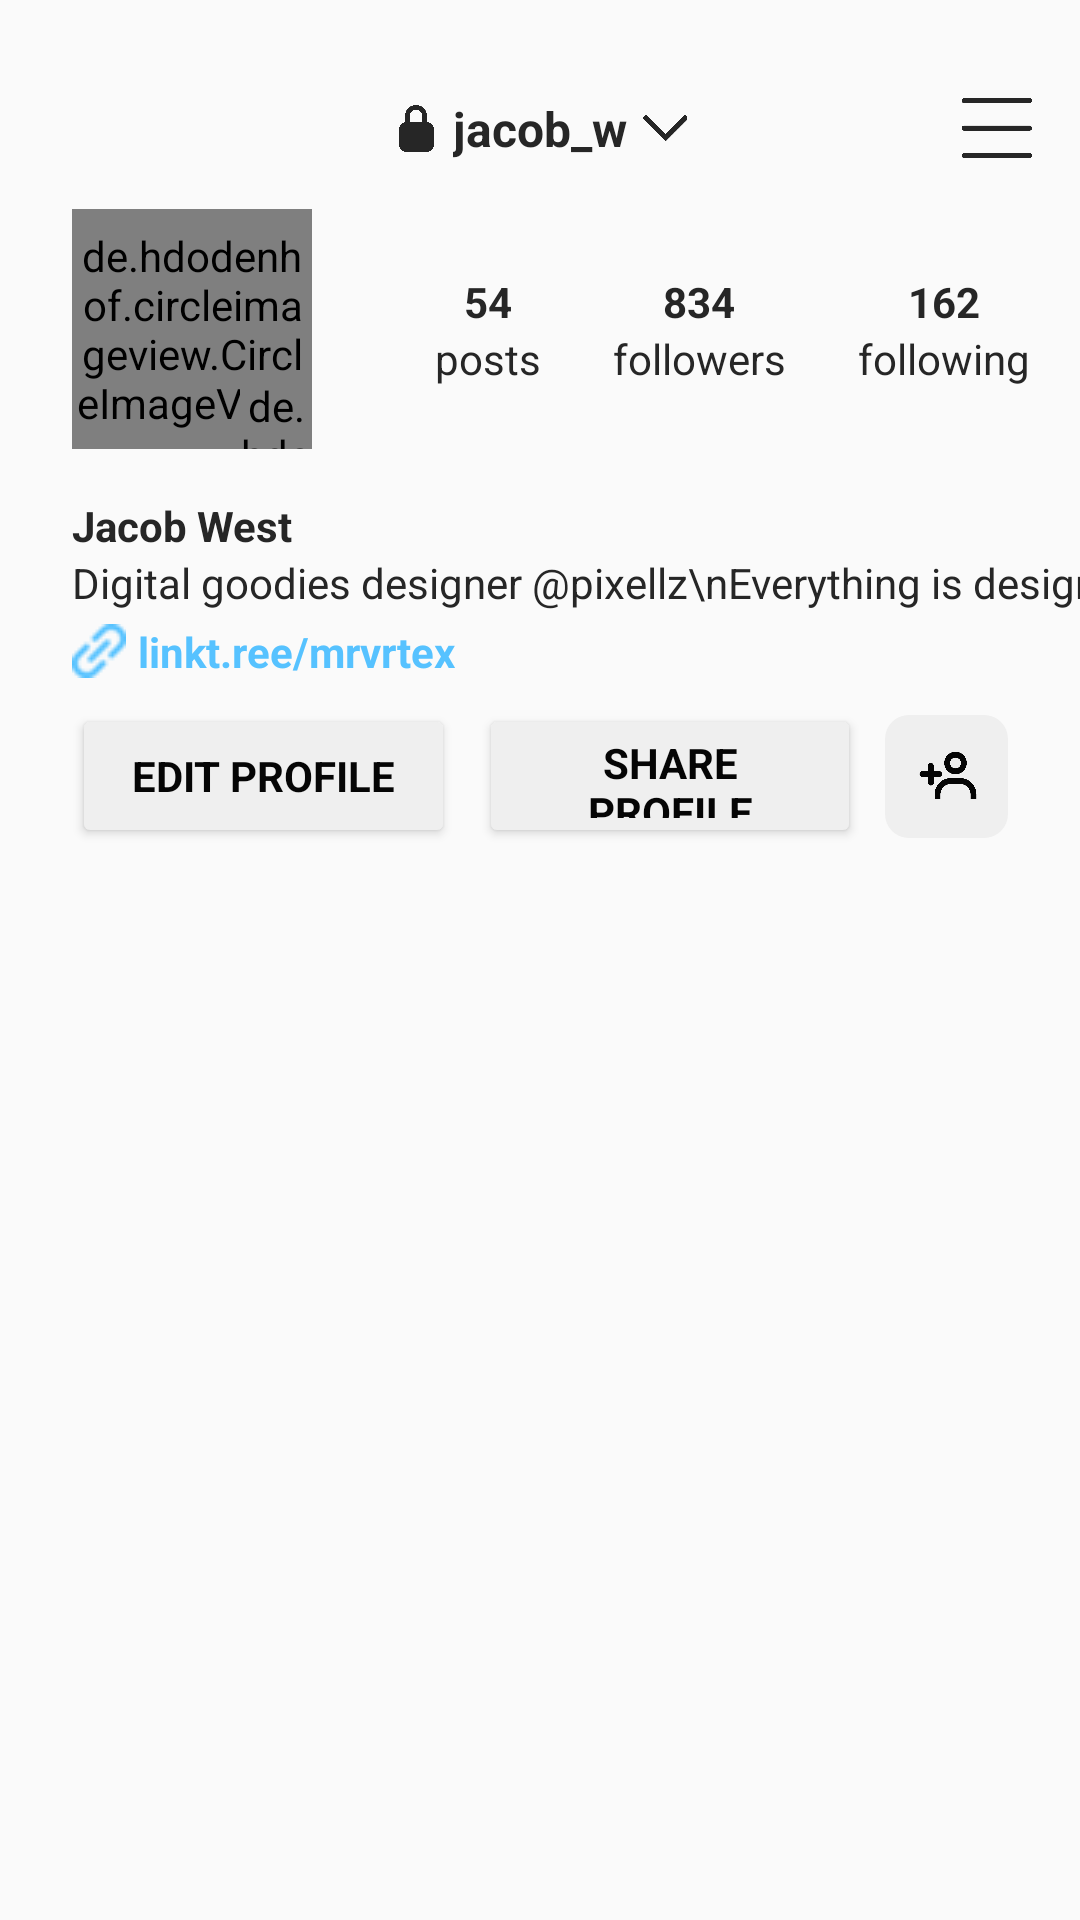

Screen size 1080x1920. Icon name, then its box in pixels as bbox=[x1, y1, x2, y2]:
lock: bbox=[399, 105, 434, 152]
settings profile: bbox=[962, 98, 1032, 158]
switch accounts: bbox=[643, 115, 687, 141]
